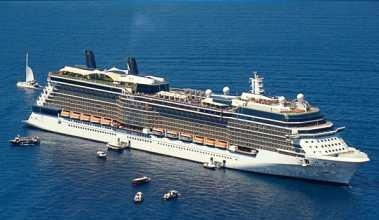otherboat: (6, 132, 42, 148), (161, 190, 180, 201), (105, 142, 128, 151), (133, 191, 144, 204), (96, 148, 108, 159)
youlun: (29, 40, 363, 182)
